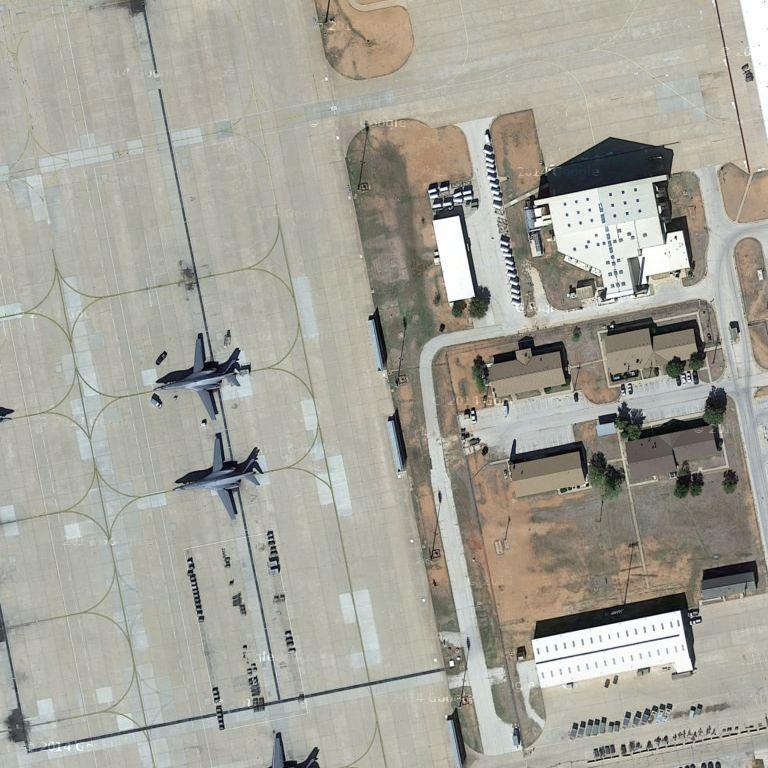B-1B: (167, 428, 267, 520), (148, 330, 246, 419)
